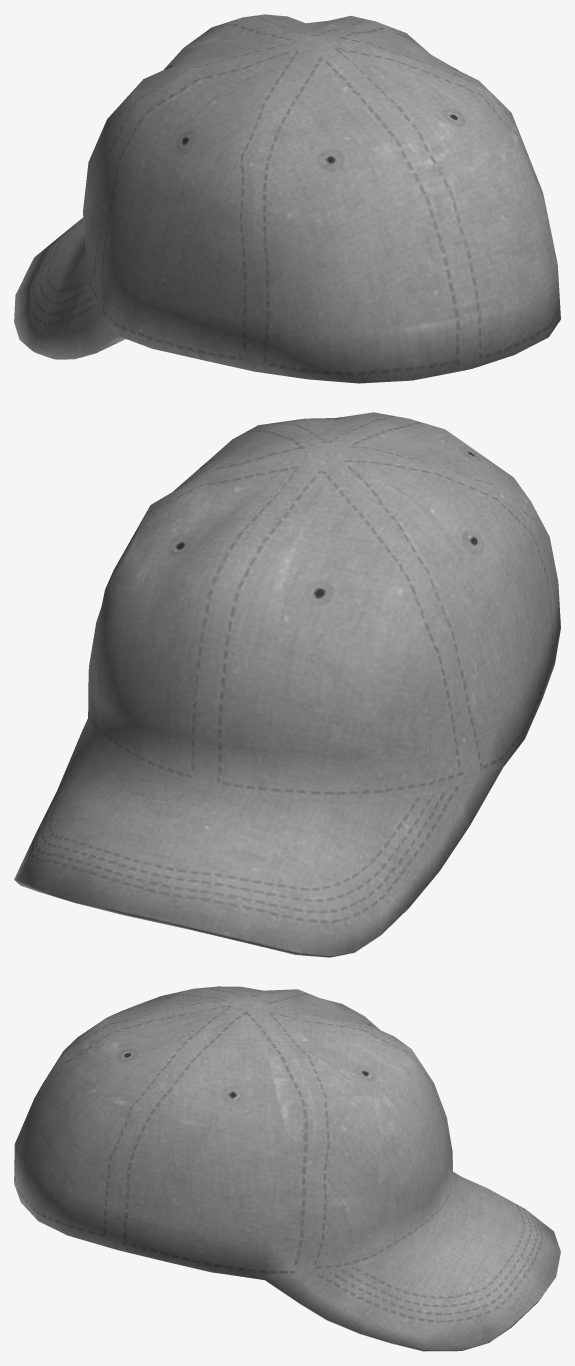
File: SurvivorMale_Head_Hat_BackwardsBaseballCap_LOD0.glb
The picture shows the model from 3 angles, top to bottom: view 1: azimuth 30°, elevation 25°; view 2: azimuth 150°, elevation 25°; view 3: azimuth 270°, elevation 25°; orthographic projection. The views are drawn at different scales.
Parts seen in each view (by area): view 1: Hoodie; view 2: Hoodie; view 3: Hoodie.
Boxes of the visible parts, x1=… form: Hoodie: x1=14, y1=14, x2=560, y2=383; Hoodie: x1=14, y1=412, x2=560, y2=957; Hoodie: x1=14, y1=986, x2=560, y2=1351.
Bounding box in the file's own units: 0.1767 × 0.1606 × 0.2765.
1 material, 1 textured.
